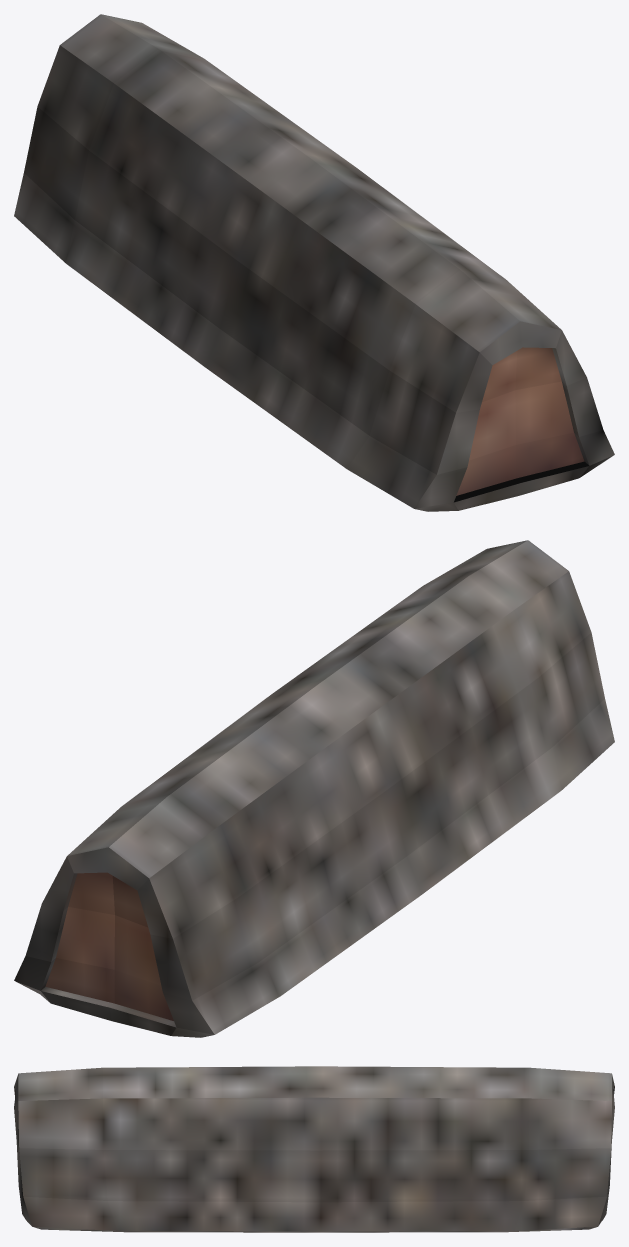
Rendered from log.fbx.
3 views of the same model, one above another, from view 1: azimuth 30°, elevation 25°; view 2: azimuth 150°, elevation 25°; view 3: azimuth 270°, elevation 25° (orthographic). The views are drawn at different scales.
Parts seen in each view (by area): view 1: log; view 2: log; view 3: log.
Part boxes in pixels (<box>): log: <box>14,14,614,511</box>; log: <box>14,540,614,1037</box>; log: <box>14,1066,614,1232</box>.
Size of the model in its own units: 2.14 by 1.85 by 7.27.
